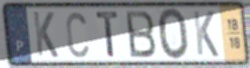B: (123, 9, 158, 59)
C: (64, 10, 90, 59)
K: (31, 10, 60, 60), (191, 10, 220, 60)
O: (156, 7, 191, 62)
T: (95, 10, 121, 59)
